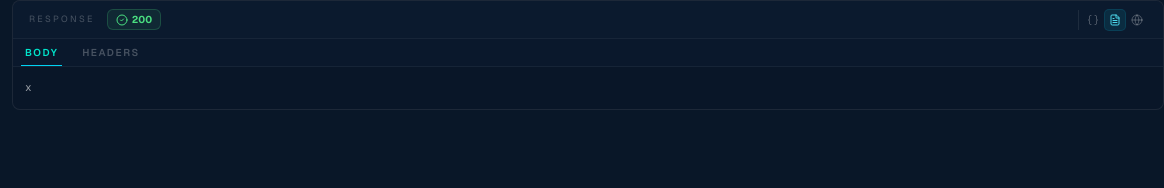
Test: Response panel › headers tab › a response without headers says so
Click the button "headers" at (111, 52), box top-left (70, 39), bottom-right (152, 66)
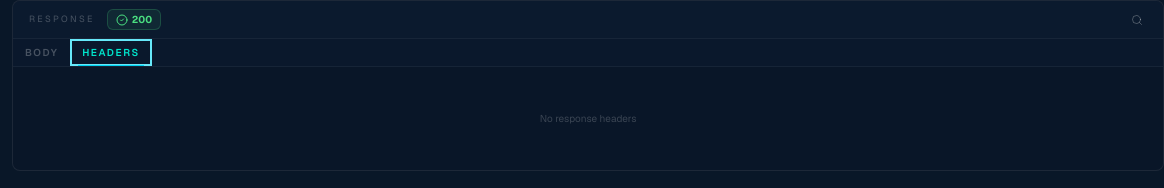
Now the text "No response headers" is shown, box top-left (540, 112), bottom-right (636, 125)
